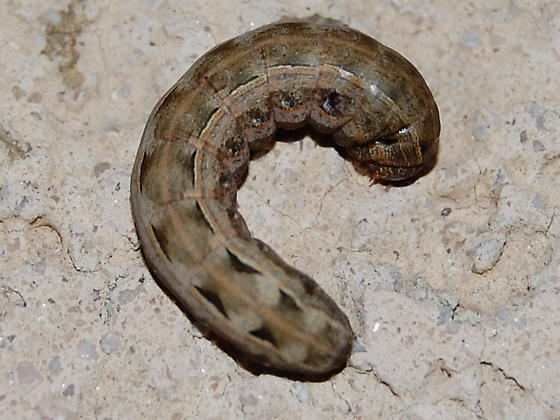Armyworm: (125, 26, 452, 386)
